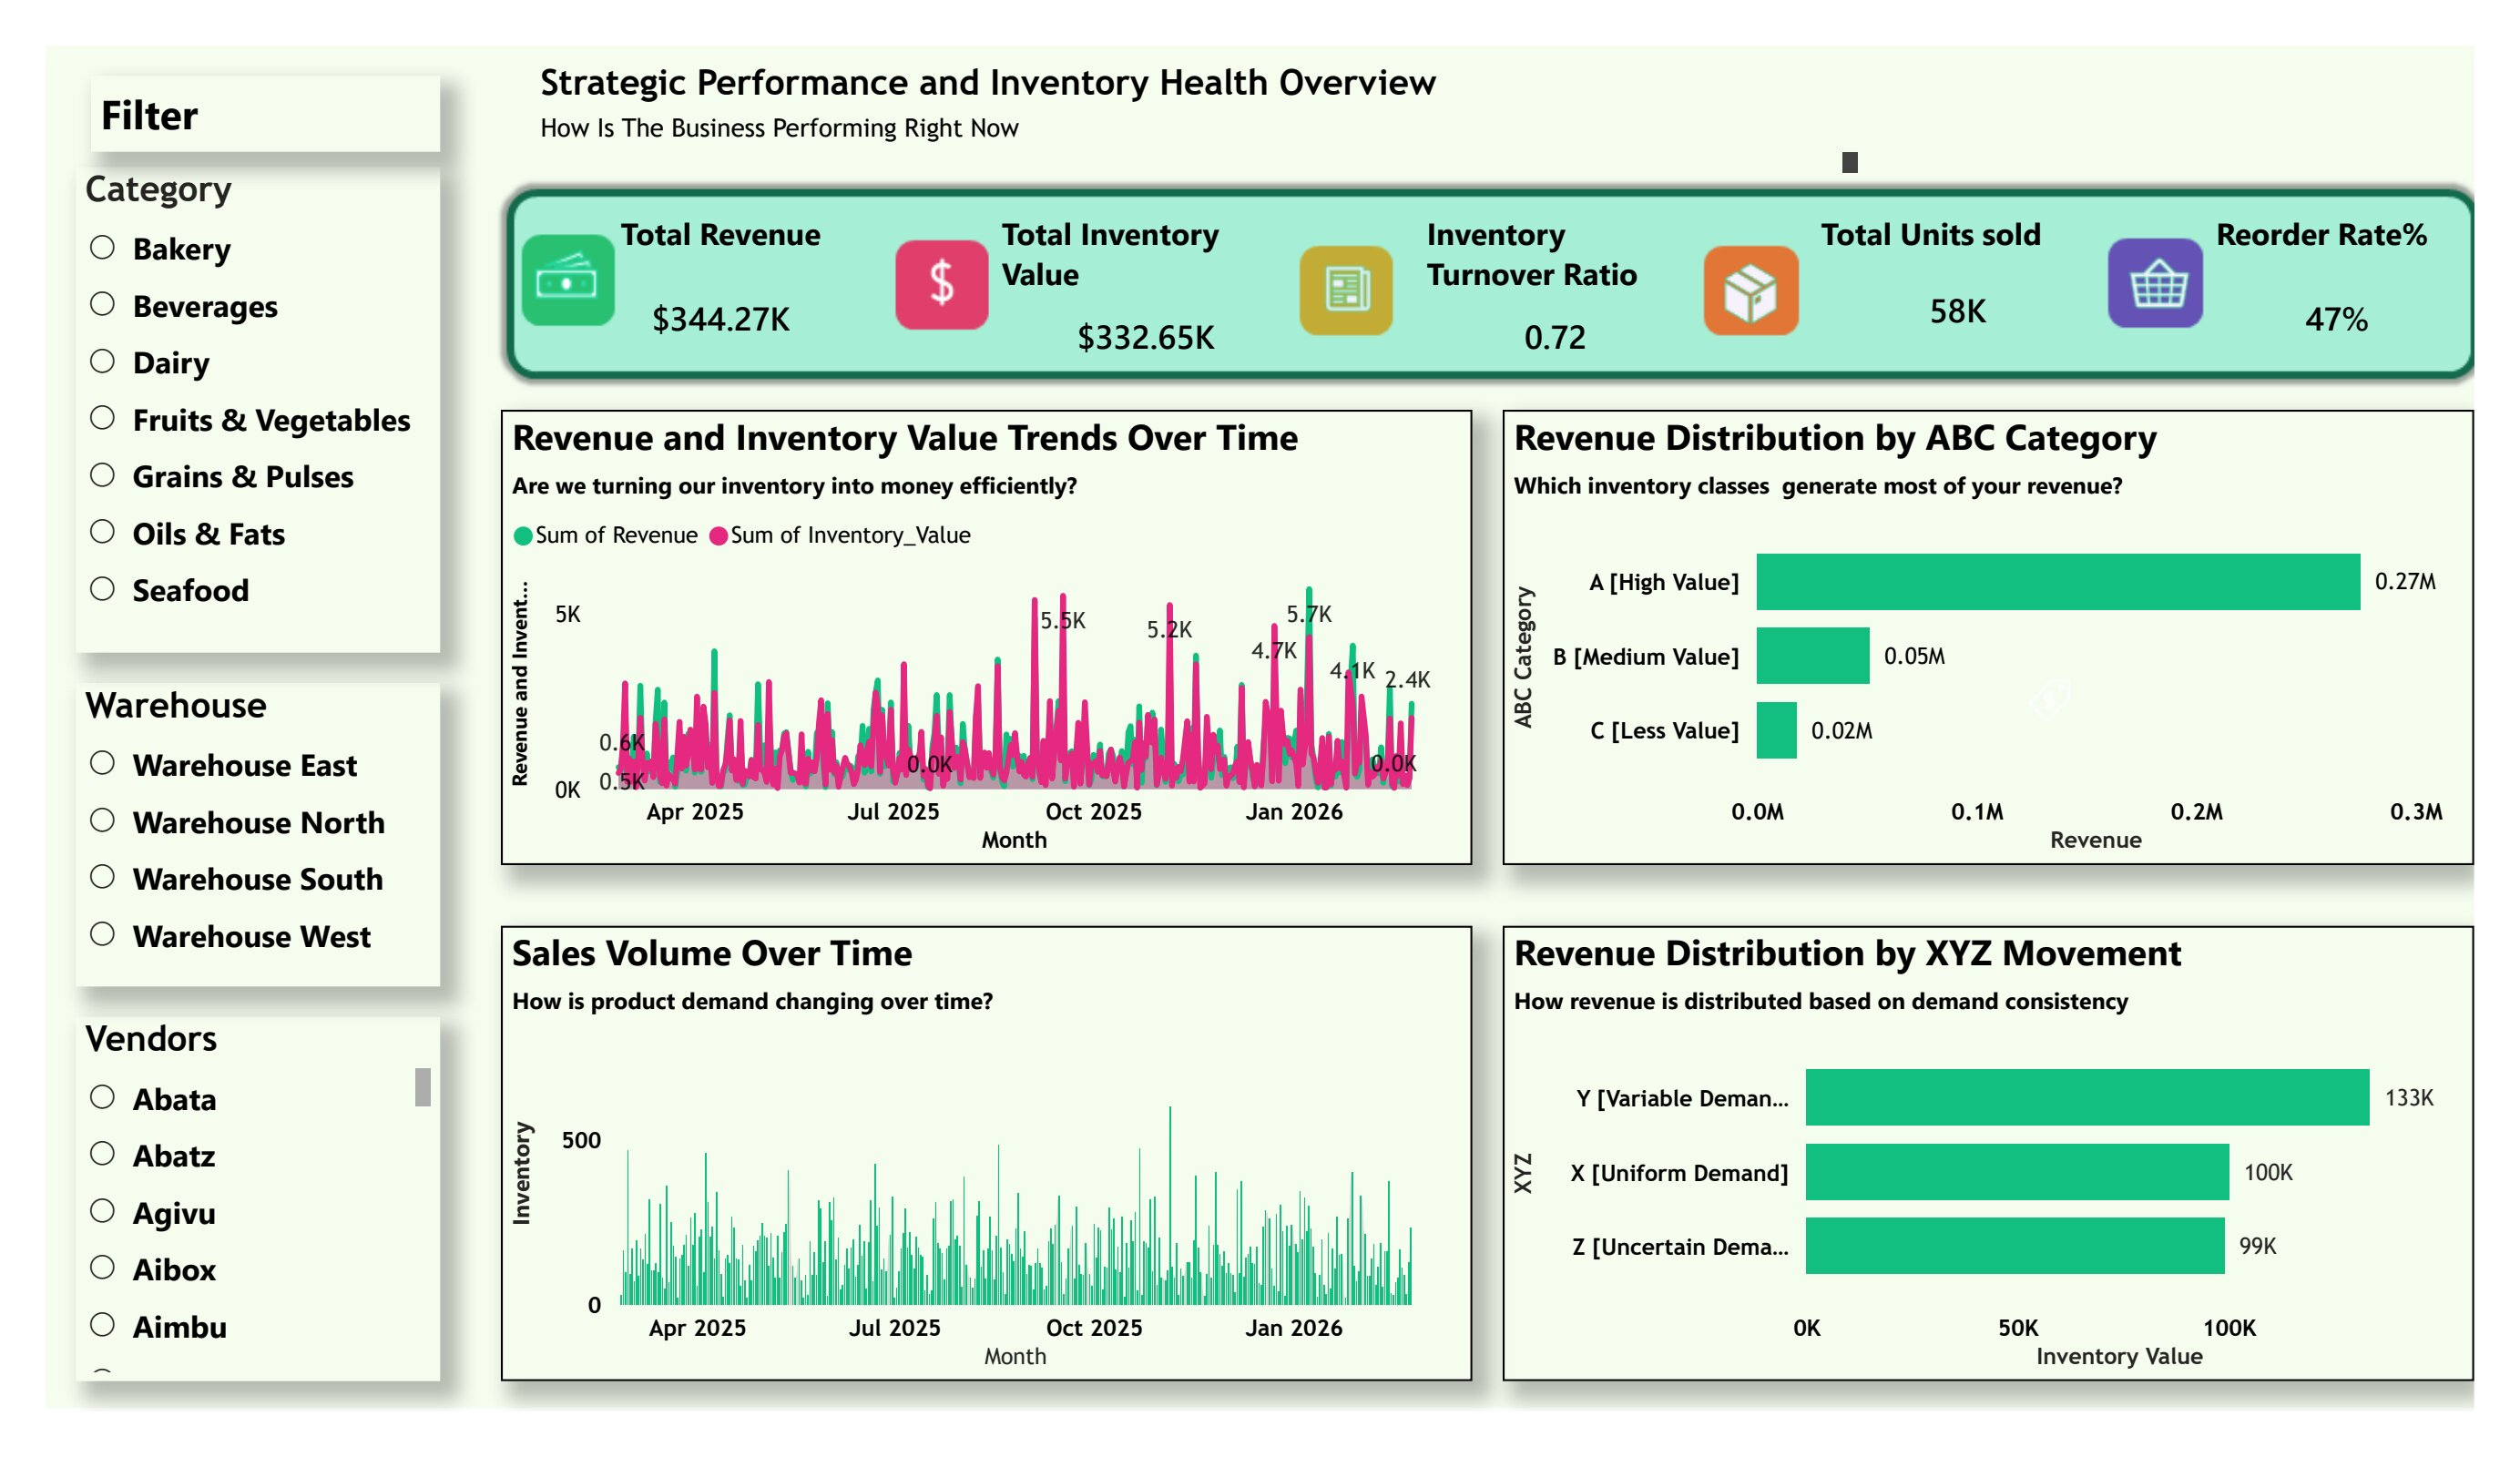

The dashboard page shown, as its layout file describes it:
{"tool":"powerbi","page":{"name":"Overview","canvas":[1280,720],"ordinal":0},"visuals":[{"type":"cardVisual","title":"Total Inventory Value","fields":{"Data":["Kay Calculations.Total Inventory Value"]},"box":[504,88,152,80],"z":1000},{"type":"areaChart","title":"Revenue and Inventory Value Trends Over Time","fields":{"Category":["Grocery_Inventory_Data.Date.Variation.Date Hierarchy.Year"],"Y":["Sum(Grocery_Inventory_Data.Revenue)","Sum(Grocery_Inventory_Data.Inventory_Value)"]},"box":[240,192,512,240],"z":2000},{"type":"ribbonChart","title":"Sales Volume  Over Time","fields":{"Category":["Grocery_Inventory_Data.Date.Variation.Date Hierarchy.Year"],"Y":["Sum(Grocery_Inventory_Data.Sales_Volume)"]},"box":[240,464,512,240],"z":3000},{"type":"listSlicer","fields":{"Values":["Grocery_Inventory_Data.Category"]},"box":[16,64,192,256],"z":4000},{"type":"clusteredBarChart","title":"Revenue Distribution by ABC Category","fields":{"Category":["ABC_Product_Classification.ABC Category"],"Y":["Sum(Grocery_Inventory_Data.Revenue)"]},"box":[768,192,512,240],"z":5000},{"type":"clusteredBarChart","title":"Revenue Distribution by XYZ Movement","fields":{"Category":["Grocery_Inventory_Data.XYZ"],"Y":["Sum(Grocery_Inventory_Data.Inventory_Value)"]},"box":[768,464,512,240],"z":6000},{"type":"cardVisual","title":"Total Revenue","fields":{"Data":["Kay Calculations.Total Revenue"]},"box":[288,88,136,80],"z":7000},{"type":"cardVisual","title":"Inventory Turnover Ratio","fields":{"Data":["ABC_Product_Classification.Inventory Turnover"]},"box":[728,88,136,80],"z":8000},{"type":"cardVisual","title":"Total Units sold","fields":{"Data":["Kay Calculations.Total Units"]},"box":[936,88,144,72],"z":9000},{"type":"cardVisual","title":"Reorder  Rate%","fields":{"Data":["Kay Calculations.Reorder Rate"]},"box":[1144,88,128,80],"z":10000},{"type":"listSlicer","title":"Warehouse","fields":{"Values":["Grocery_Inventory_Data.Warehouse_Name"]},"box":[16,336,192,160],"z":11000},{"type":"listSlicer","title":"Vendors","fields":{"Values":["Grocery_Inventory_Data.Vendor_Name"]},"box":[16,512,192,192],"z":12000},{"type":"textbox","title":"Strategic Performance and Inventory Health Overview","box":[256,8,704,64],"z":13000},{"type":"textbox","box":[24,16,184,40],"z":14000}]}

Visuals, with their boxes in screenshot pixels (x1, y1, x2, y2):
"Total Inventory Value" cardVisual: (1003,224,1288,373)
"Revenue and Inventory Value Trends Over Time" areaChart: (508,419,1467,868)
"Sales Volume  Over Time" ribbonChart: (508,928,1467,1377)
listSlicer - Grocery_Inventory_Data.Category: (89,178,449,658)
"Revenue Distribution by ABC Category" clusteredBarChart: (1497,419,2456,868)
"Revenue Distribution by XYZ Movement" clusteredBarChart: (1497,928,2456,1377)
"Total Revenue" cardVisual: (598,224,853,373)
"Inventory Turnover Ratio" cardVisual: (1423,224,1677,373)
"Total Units sold" cardVisual: (1812,224,2082,359)
"Reorder  Rate%" cardVisual: (2201,224,2441,373)
"Warehouse" listSlicer: (89,688,449,988)
"Vendors" listSlicer: (89,1018,449,1377)
"Strategic Performance and Inventory Health Overview" textbox: (538,74,1857,194)
textbox: (104,89,449,164)
